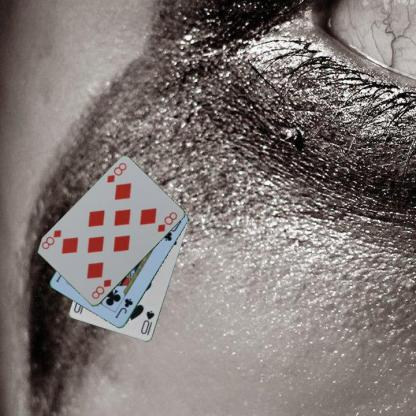10s: (138, 308, 156, 337)
8d: (104, 160, 128, 184), (89, 277, 113, 300)
Jc: (113, 296, 134, 319)
